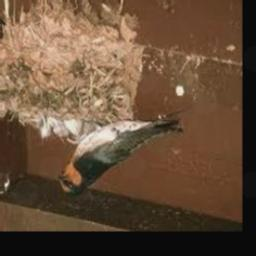Swallow: (57, 117, 182, 195)
